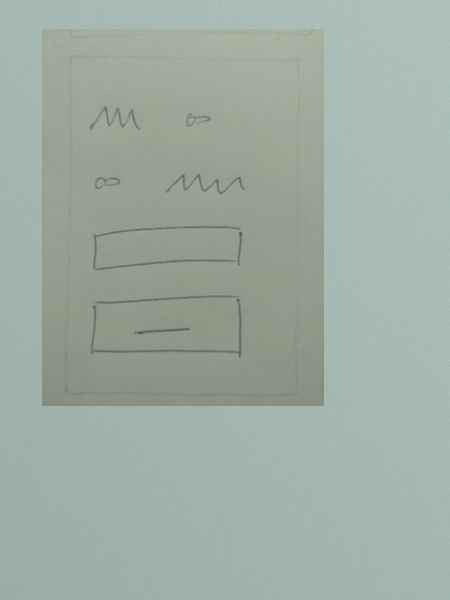button: (80, 291, 250, 361)
switch: (173, 106, 222, 131), (85, 164, 126, 193)
text: (155, 167, 254, 204), (80, 96, 145, 136)
text_input: (80, 219, 249, 270)
